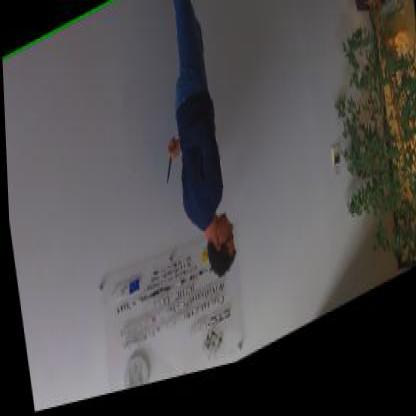knife: (158, 141, 179, 194)
